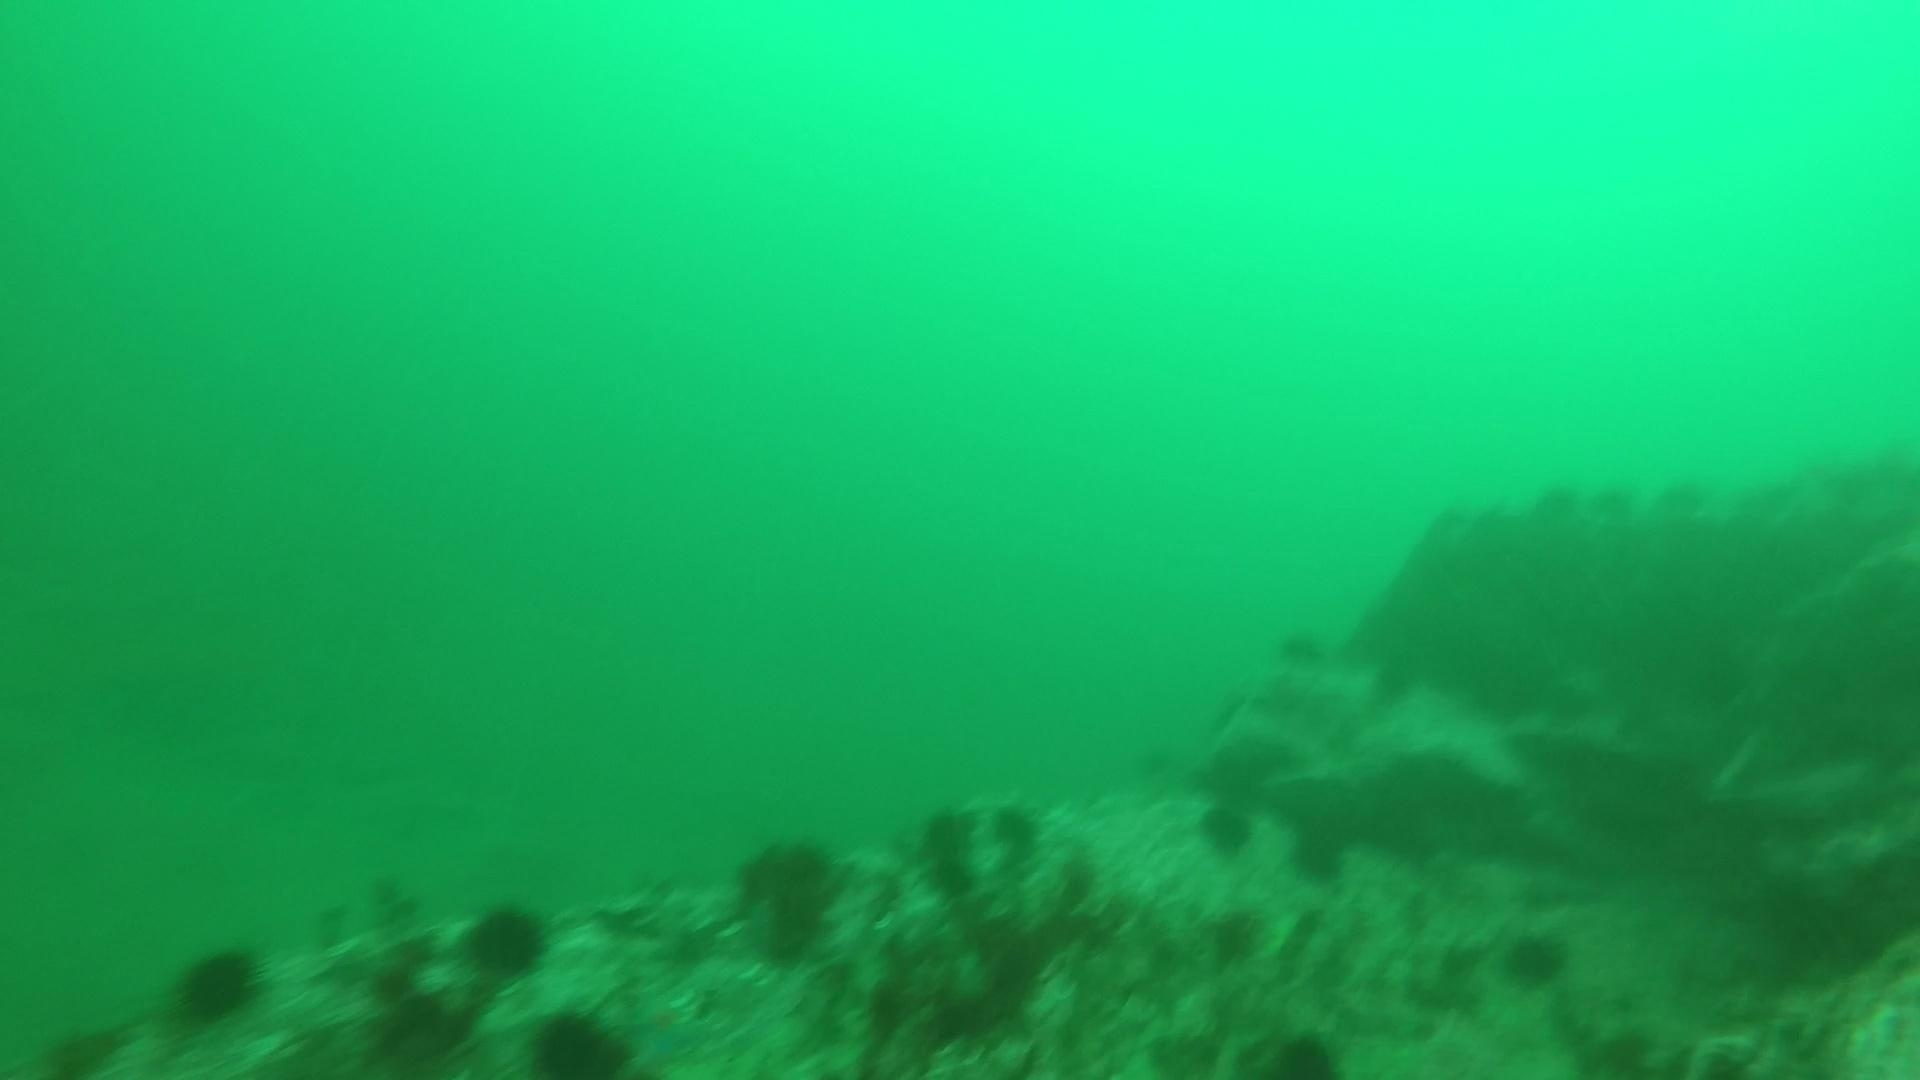echinus: (166, 939, 269, 1027), (458, 895, 555, 982), (522, 1004, 637, 1076), (36, 1018, 131, 1077), (1497, 924, 1575, 992), (1284, 816, 1356, 887), (1265, 1009, 1336, 1080), (1193, 796, 1261, 861), (985, 798, 1048, 864), (910, 800, 972, 858), (1519, 477, 1576, 524), (1577, 476, 1634, 521), (1652, 473, 1709, 518), (1266, 626, 1323, 671), (928, 851, 971, 894)
starfish: (615, 992, 723, 1072)
